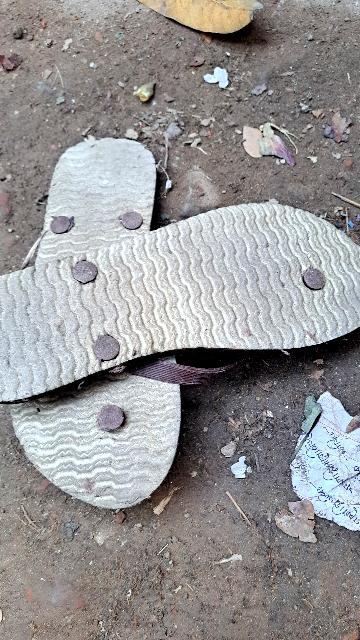sandal: (0, 175, 360, 410), (0, 109, 186, 529)
